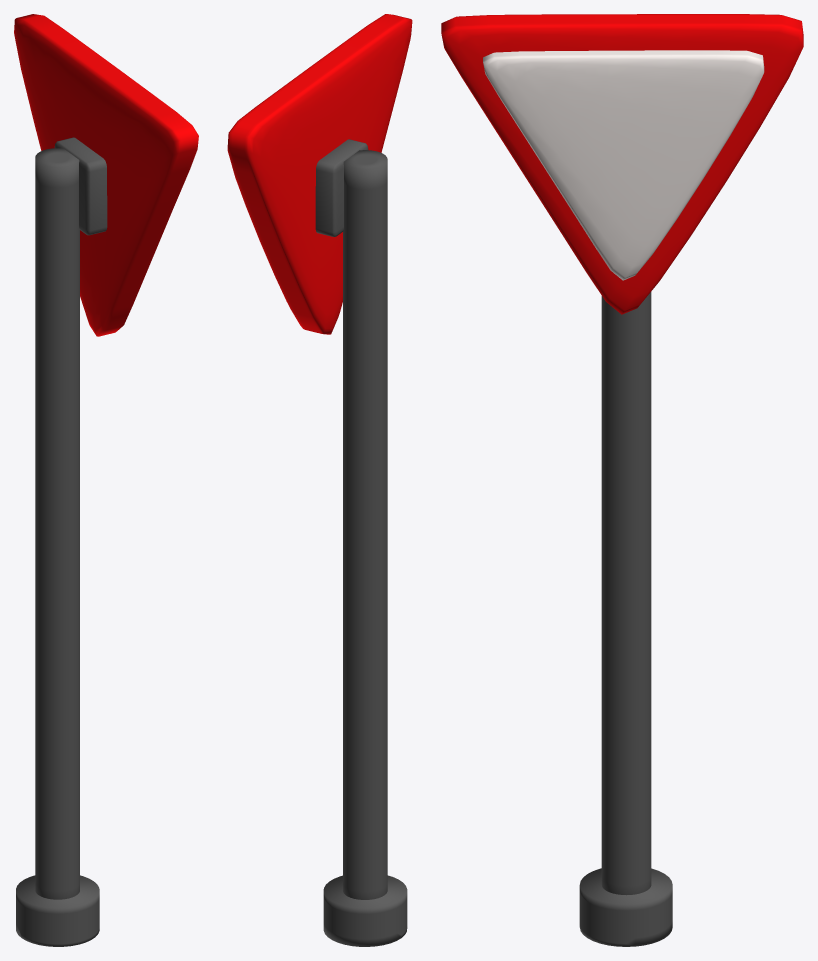
Rendered from ceda.fbx.
3 views of the same model, side by side, from view 1: azimuth 30°, elevation 25°; view 2: azimuth 150°, elevation 25°; view 3: azimuth 270°, elevation 25° (orthographic). The views are drawn at different scales.
Parts seen in each view (by area): view 1: Ceda; view 2: Ceda; view 3: Ceda.
Part boxes in pixels (left/top/right/bottom): Ceda: left=14, top=14, right=198, bottom=946; Ceda: left=227, top=14, right=412, bottom=946; Ceda: left=441, top=14, right=803, bottom=946.
Size of the model in its own units: 251 by 1821 by 641.
